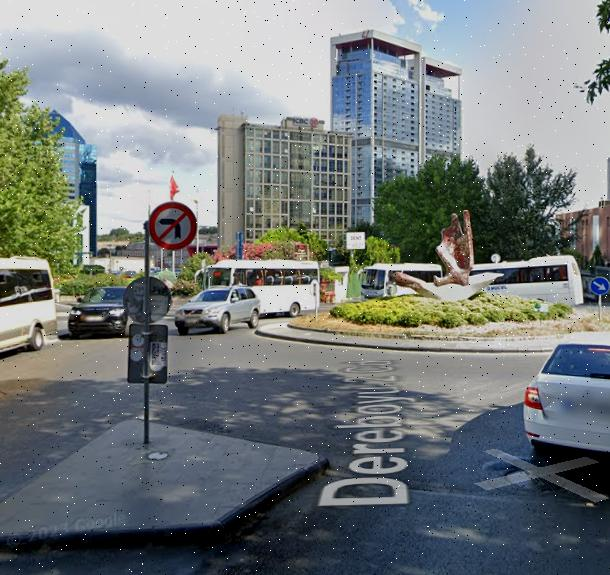leftturnsareforbidden: (147, 194, 201, 252)
